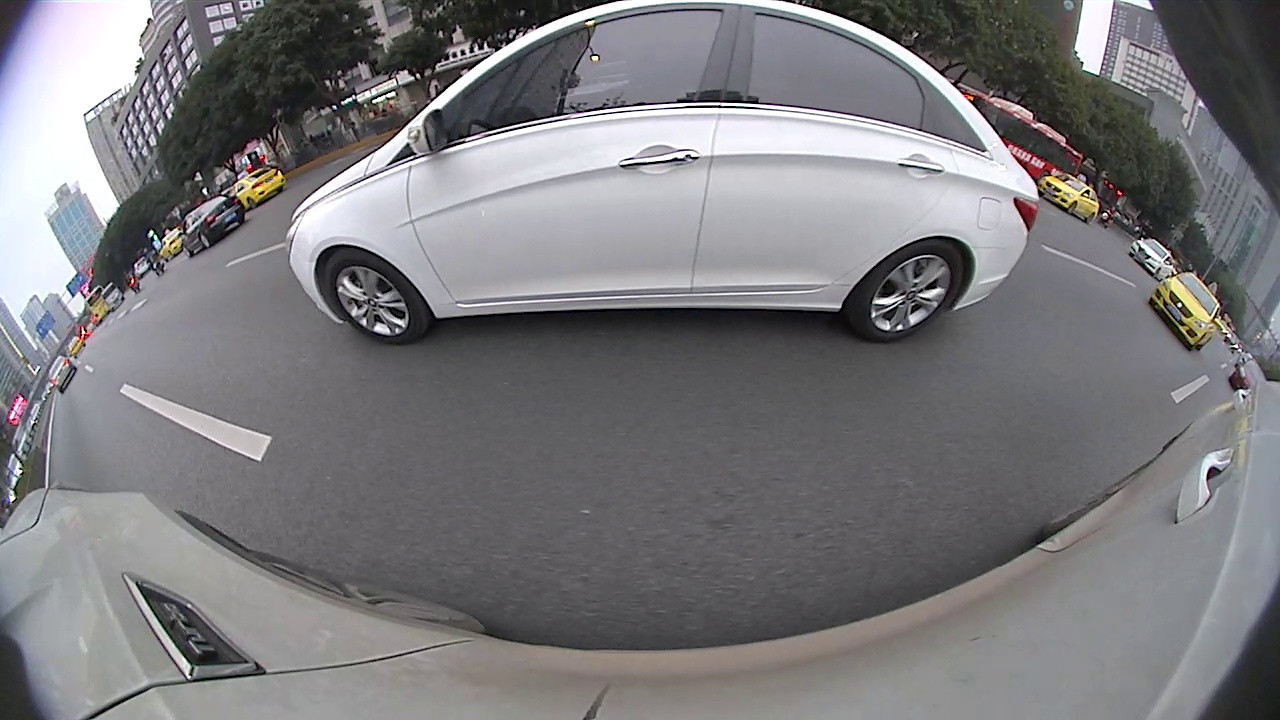bus: (1224, 217, 1279, 335)
car: (2, 118, 464, 443), (831, 121, 1250, 417), (469, 151, 552, 213), (588, 148, 665, 206), (709, 151, 792, 203), (1229, 340, 1279, 398), (797, 164, 875, 201)
front: (837, 192, 876, 252), (426, 199, 457, 254)
rear: (131, 299, 244, 430), (1037, 271, 1146, 393), (522, 183, 533, 208), (724, 178, 732, 197)
